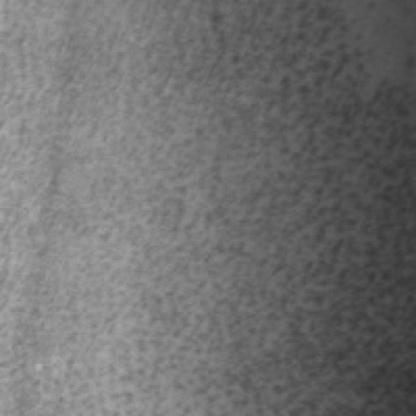pitted_surface: (168, 2, 408, 412)
